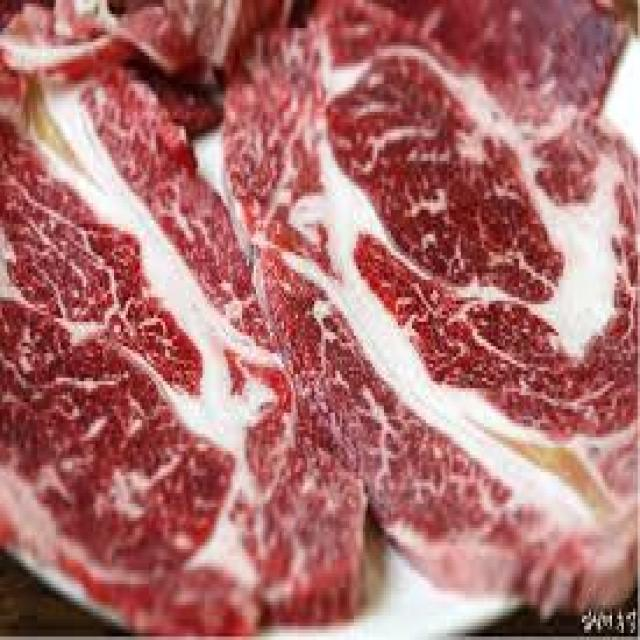beef: (267, 69, 623, 387)
